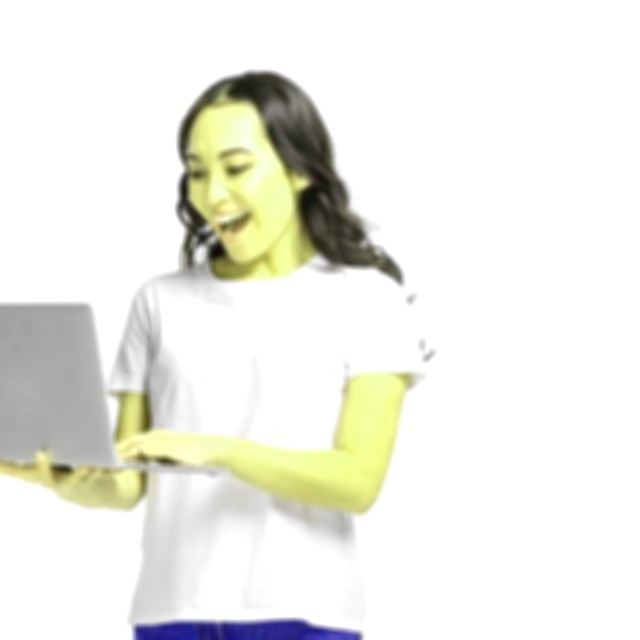Sin_Casco_Mascarrilla: (179, 72, 323, 264)
Sin_Chaleco: (129, 264, 397, 605)
